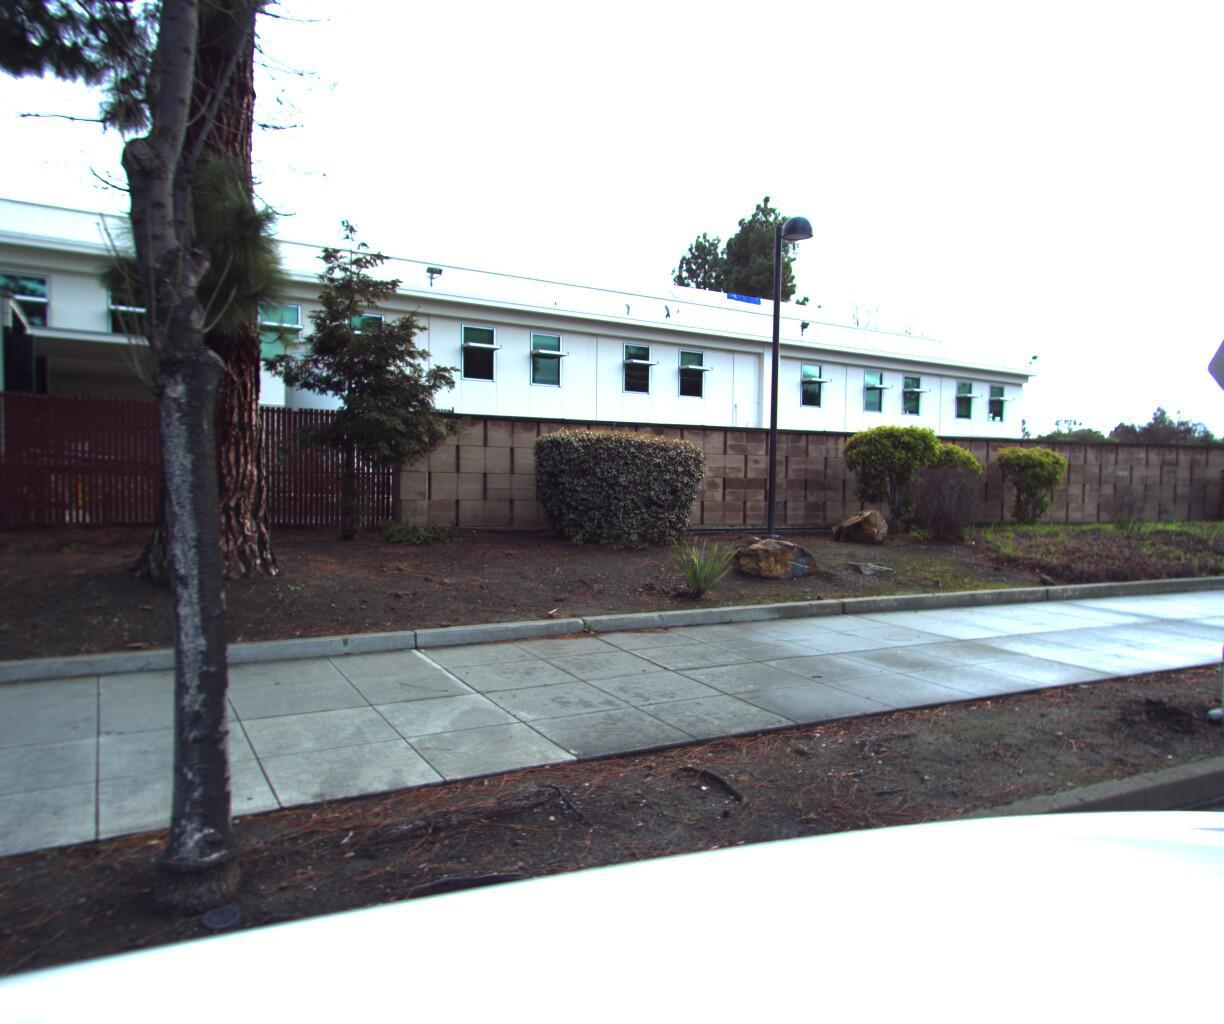truck: (0, 182, 52, 536)
